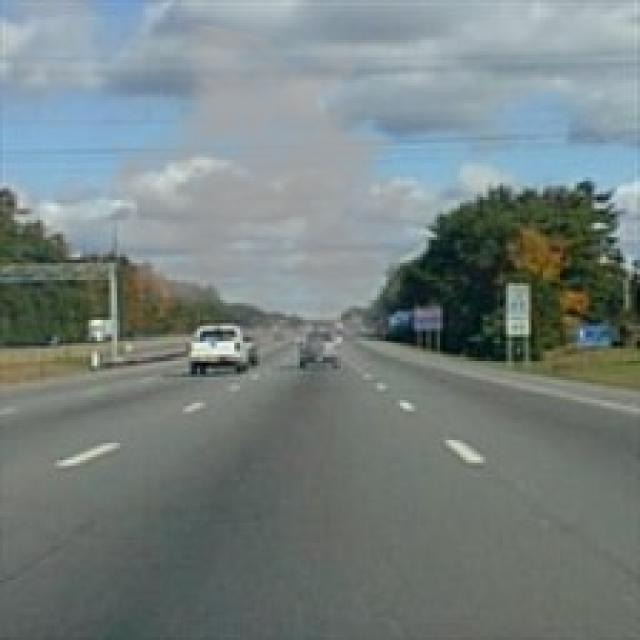Smoke: (89, 19, 458, 374)
